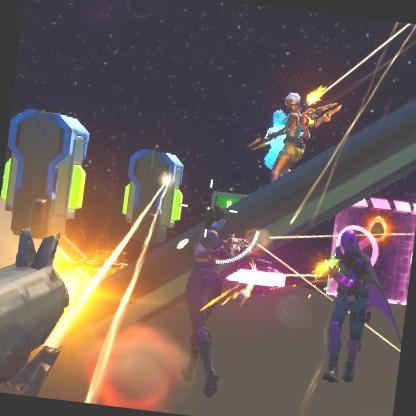person: (173, 206, 252, 398), (312, 224, 392, 388), (274, 93, 312, 186)
